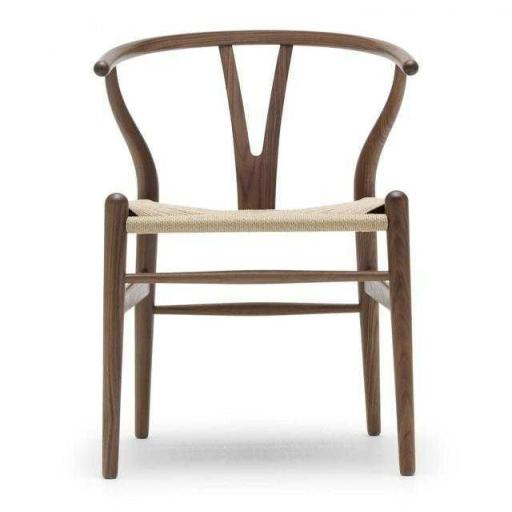chair: (83, 22, 427, 482)
